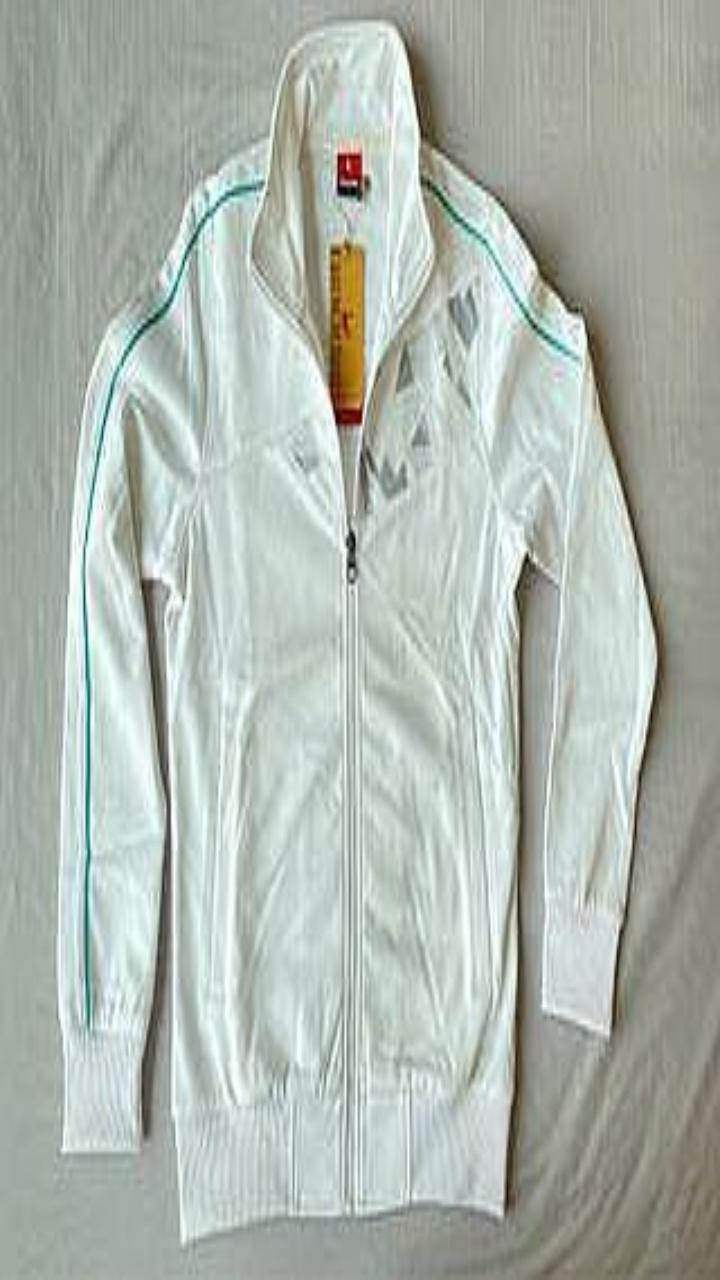Sports_Jacket: (57, 18, 655, 1241)
